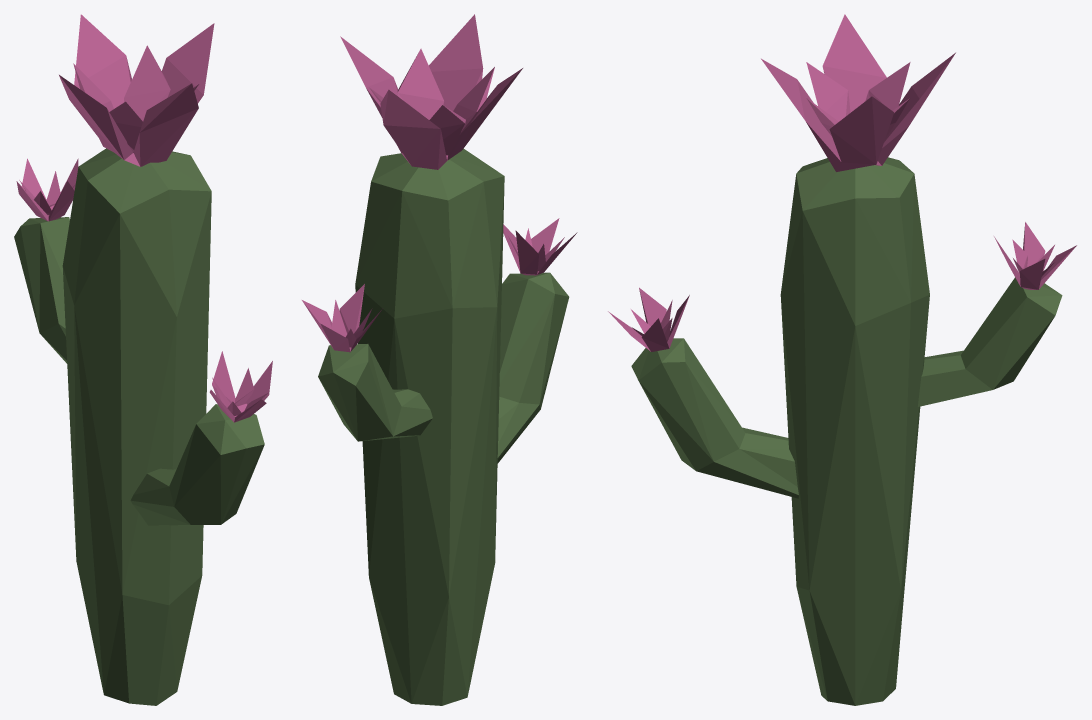
Rendered from CactusFlowers_3.lod2.glb.
3 views of the same model, side by side, from view 1: azimuth 30°, elevation 25°; view 2: azimuth 150°, elevation 25°; view 3: azimuth 270°, elevation 25° (orthographic).
Visible parts, largest first — view 1: CactusFlowers_3; view 2: CactusFlowers_3; view 3: CactusFlowers_3.
Part boxes in pixels (x1,y1,x2,y2): CactusFlowers_3: (14, 14, 272, 705); CactusFlowers_3: (302, 14, 577, 705); CactusFlowers_3: (608, 14, 1076, 705).
Bounding box in the file's own units: 0.4569 × 1.66 × 1.1.
